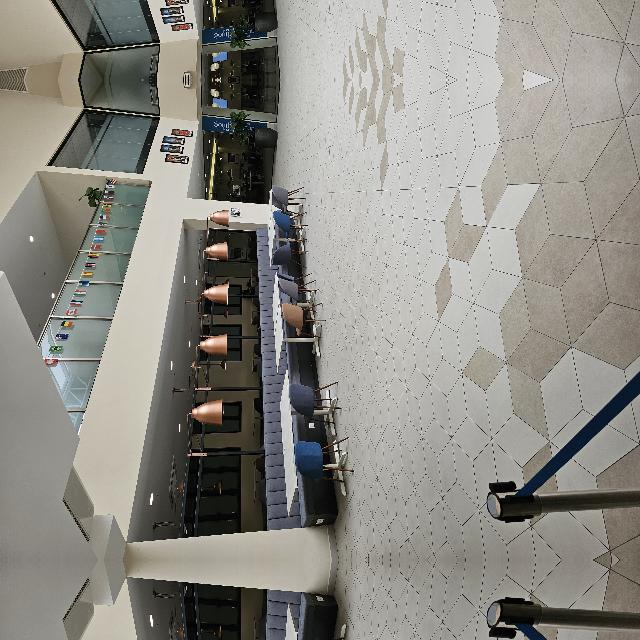obstacle: (19, 400, 193, 556), (19, 564, 193, 640), (49, 352, 189, 432), (192, 347, 290, 401)
